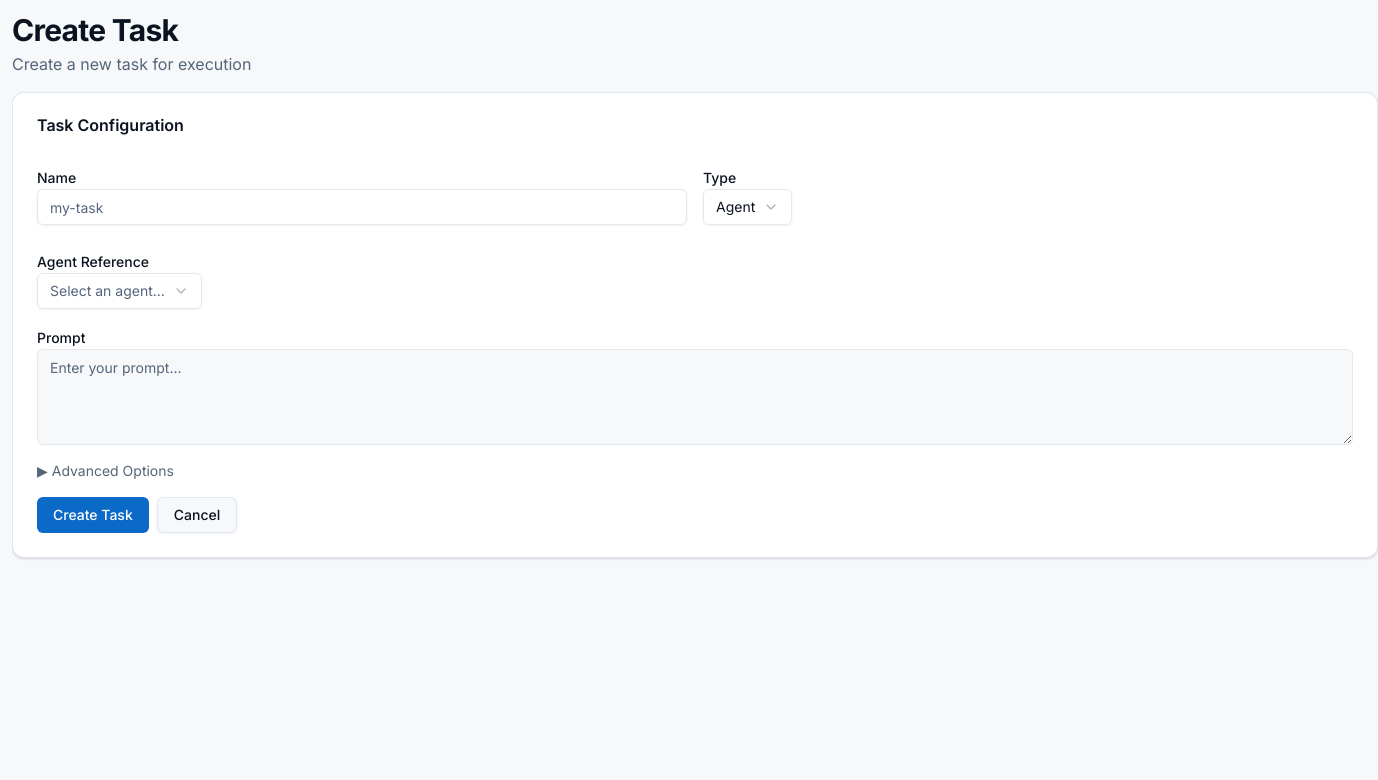
Test: TaskCreateForm › shows agent info card when agent is selected
This screenshot has width=1378, height=780.
Wait for agents to load and select the agent
Press the mouse on the dropdown labelled "Select an agent..." at (119, 291), box [37, 273, 202, 309]
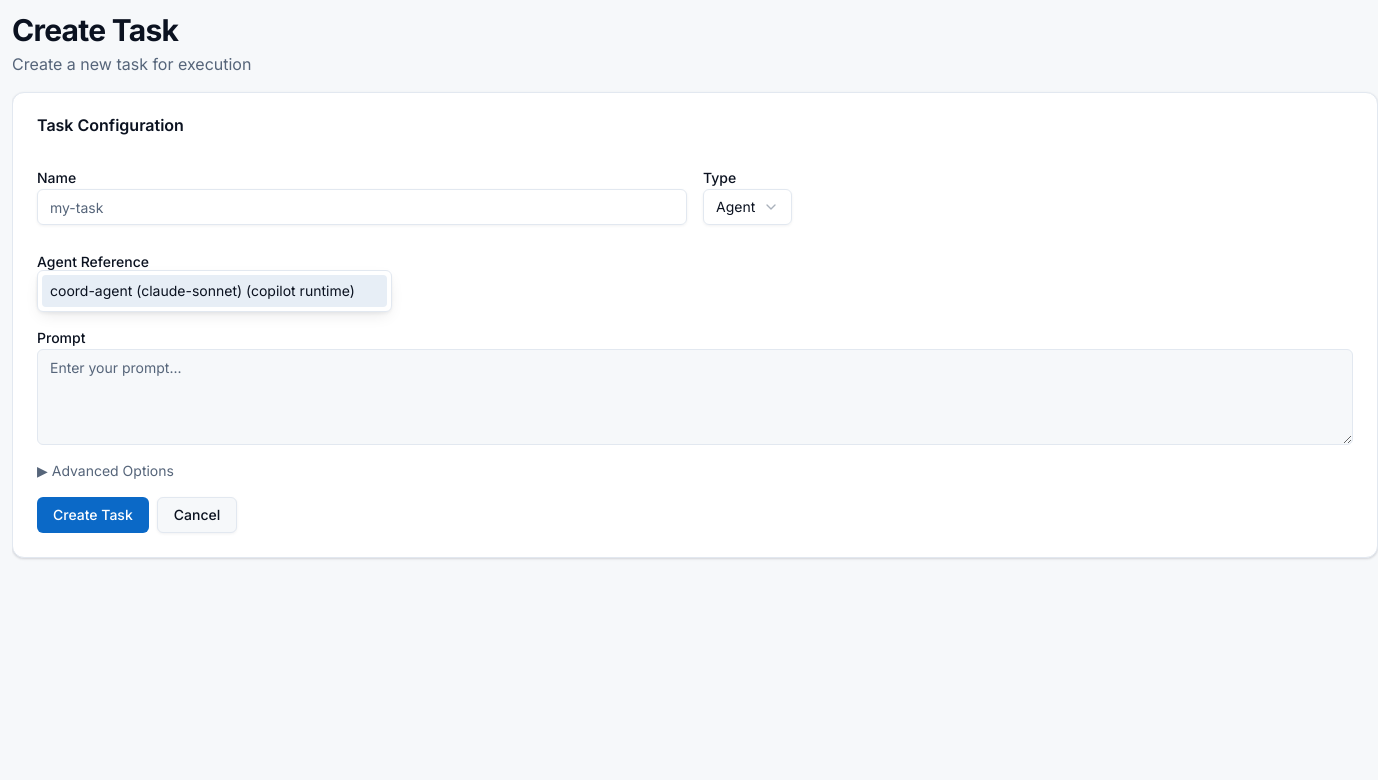
Expected: the option "coord-agent (claude-sonnet) (copilot runtime)" is shown
Click the option "coord-agent (claude-sonnet) (copilot runtime)" at (214, 291), box [42, 275, 387, 307]
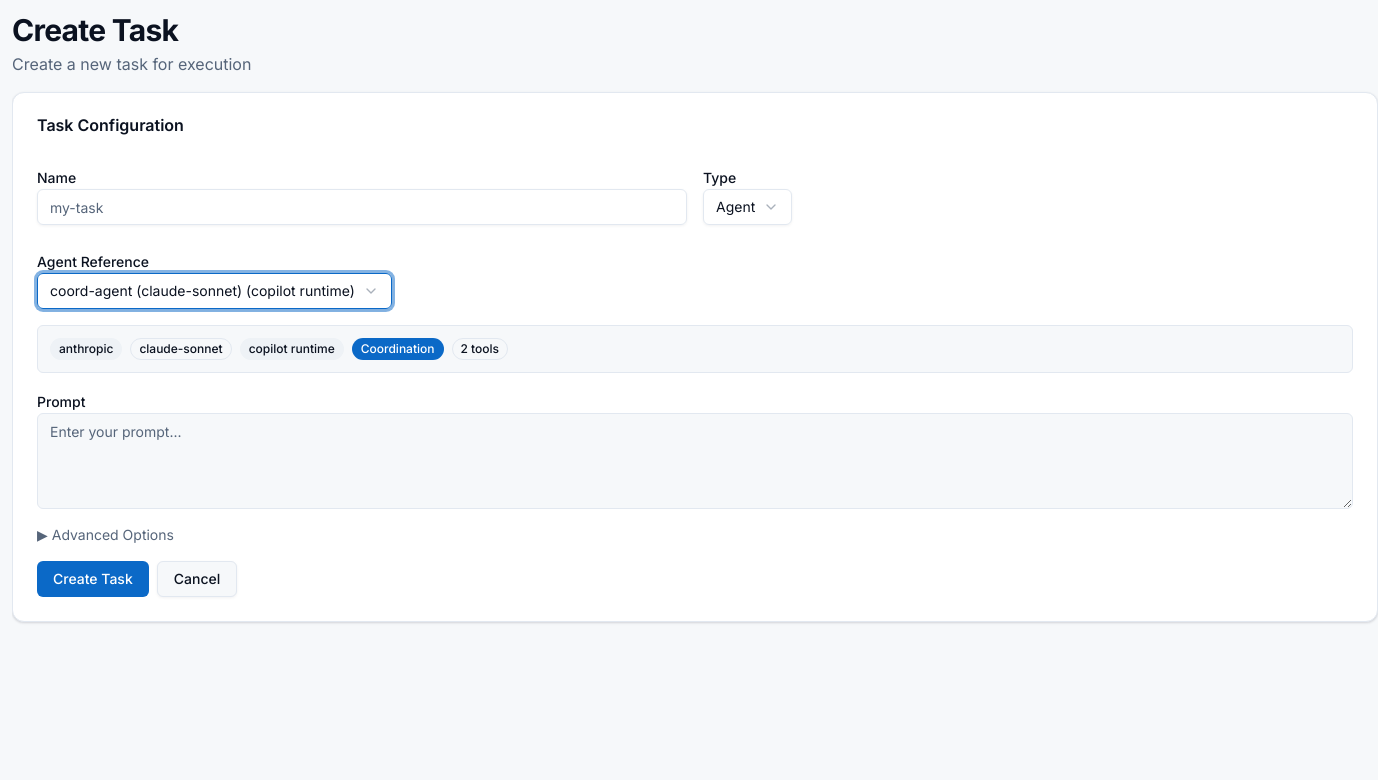
Expected: the element with test id "agent-info-card" is shown, [37, 325, 1353, 373]
Expected: the text "anthropic" is shown, [50, 338, 122, 360]
Expected: the text "claude-sonnet" is shown, [130, 338, 232, 360]
